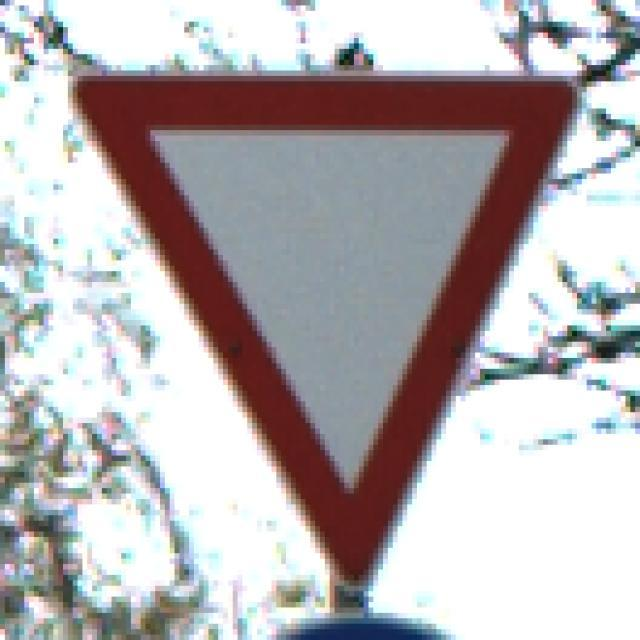give way: (59, 56, 594, 604)
